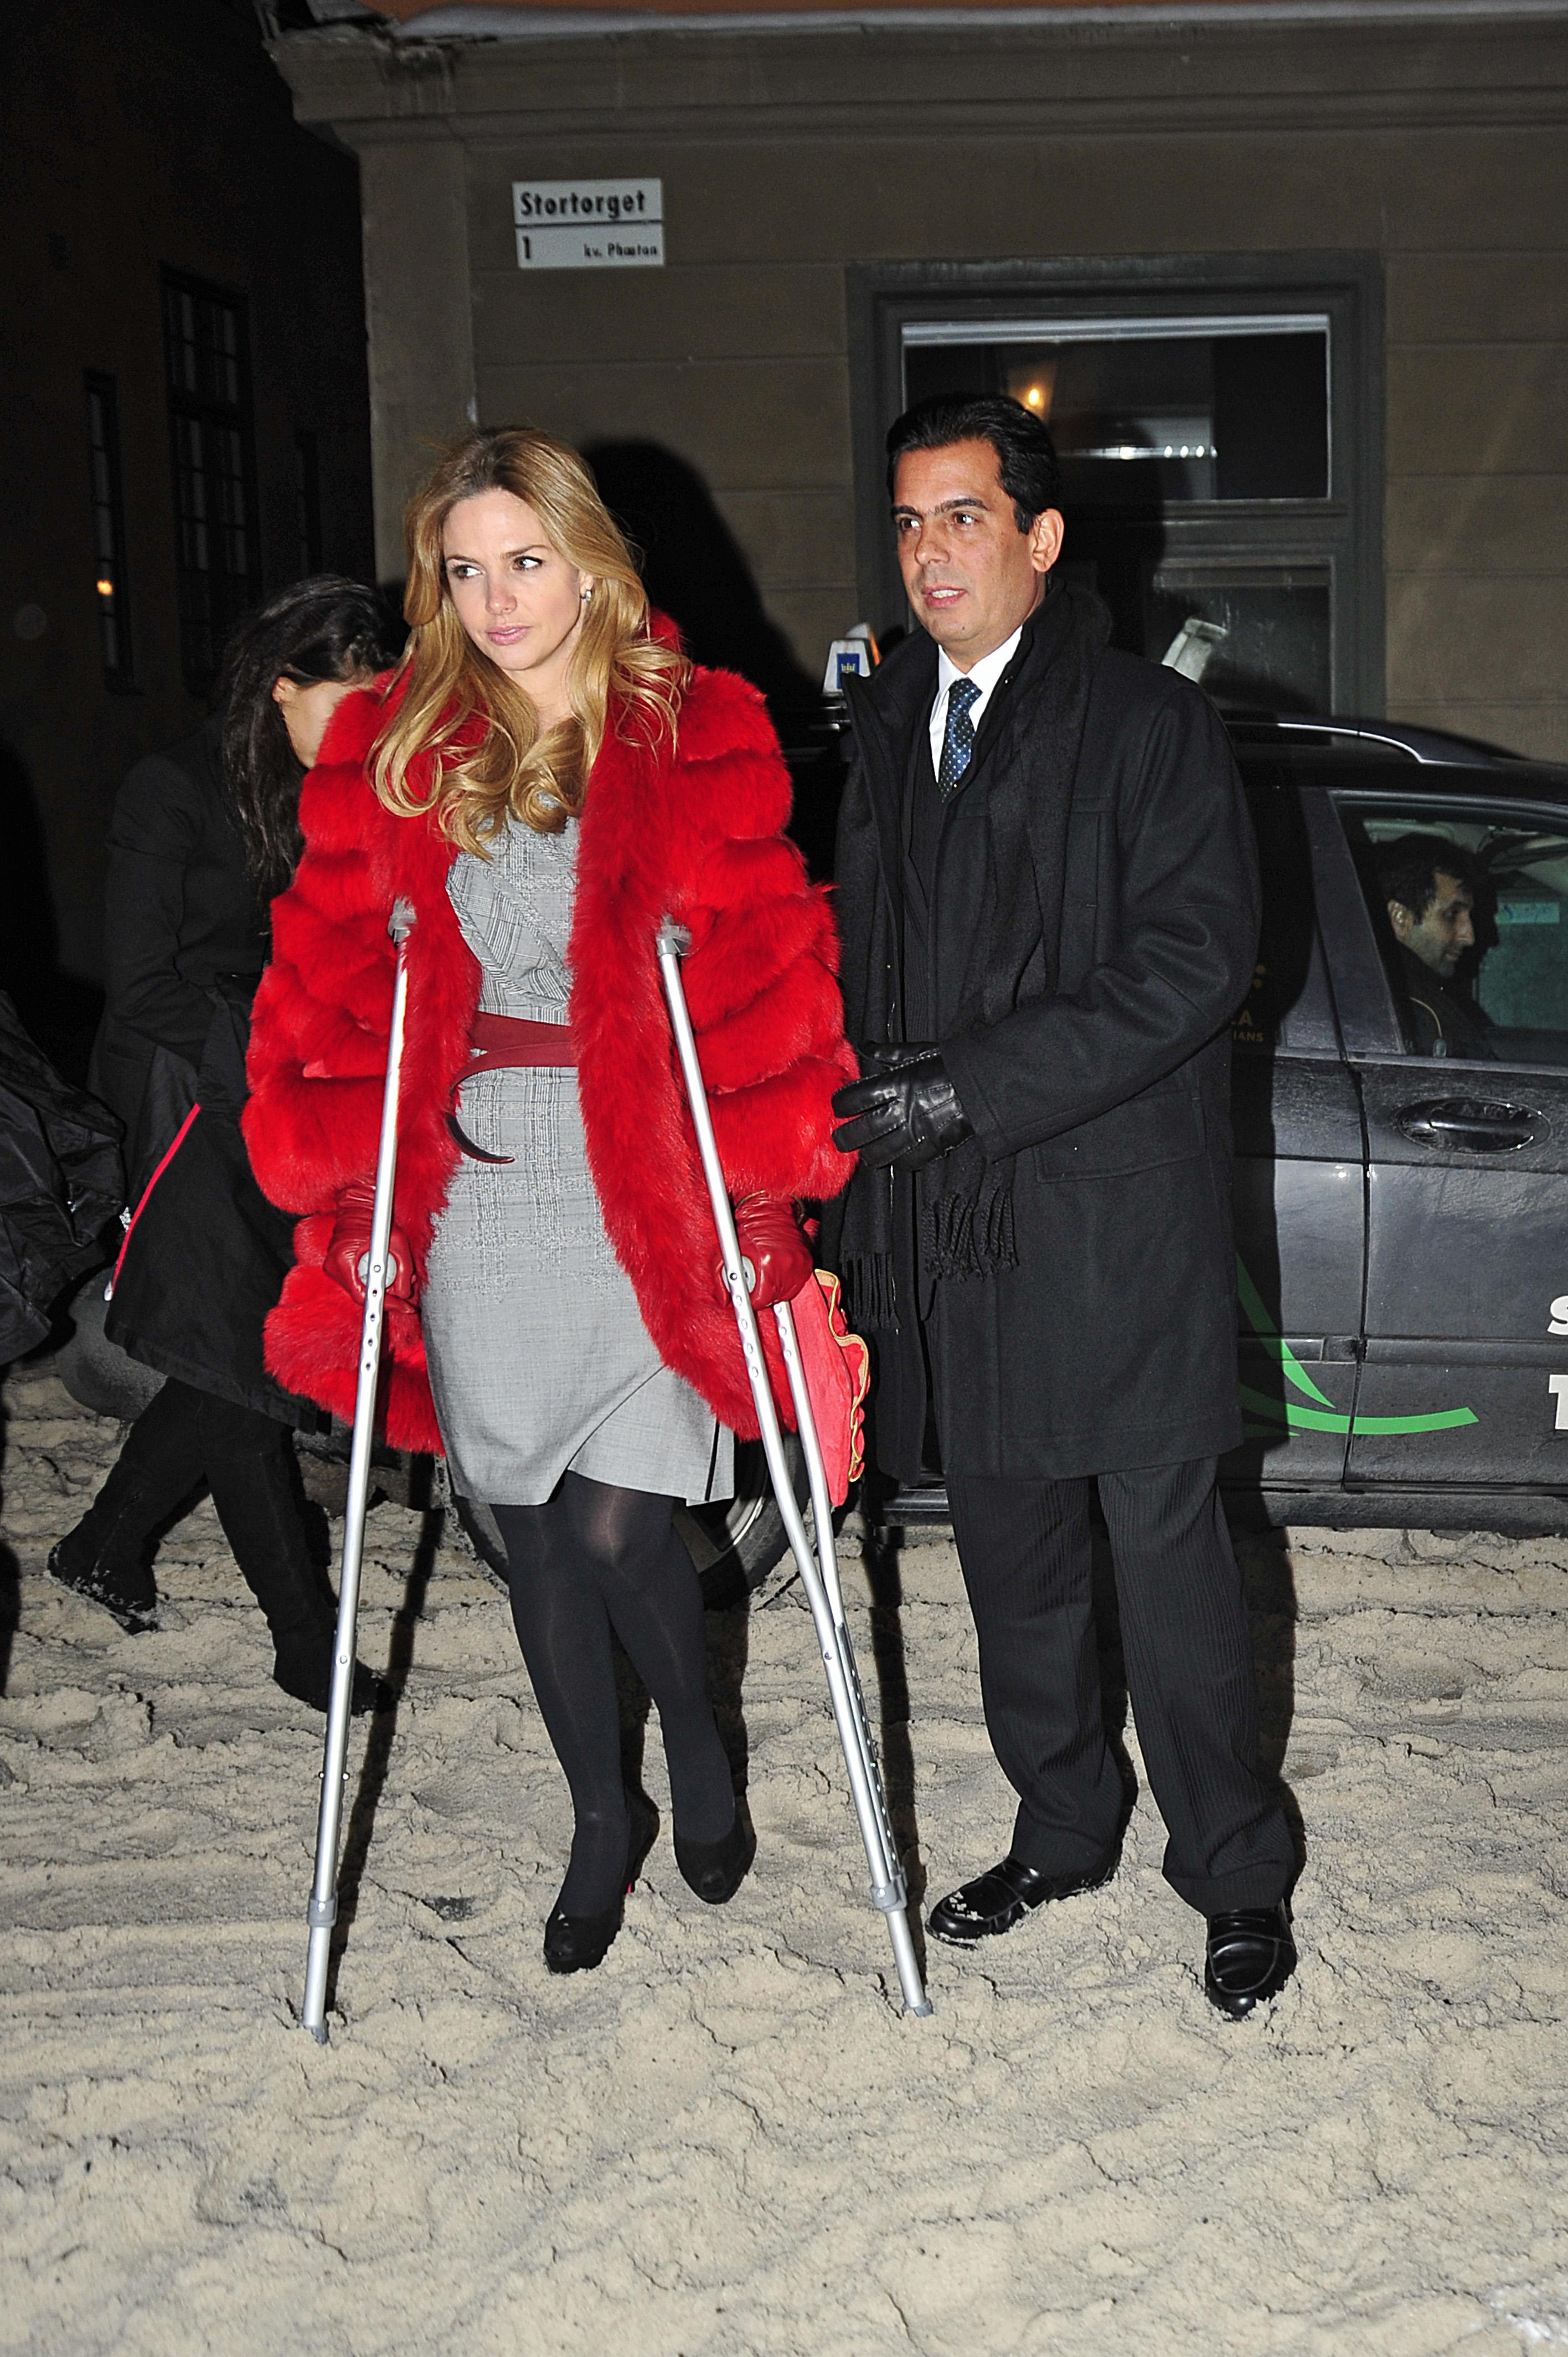crutches: (280, 408, 943, 2053)
